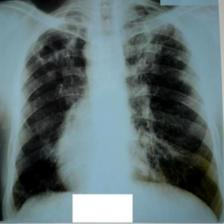tuberculosis: (7, 13, 223, 222)
